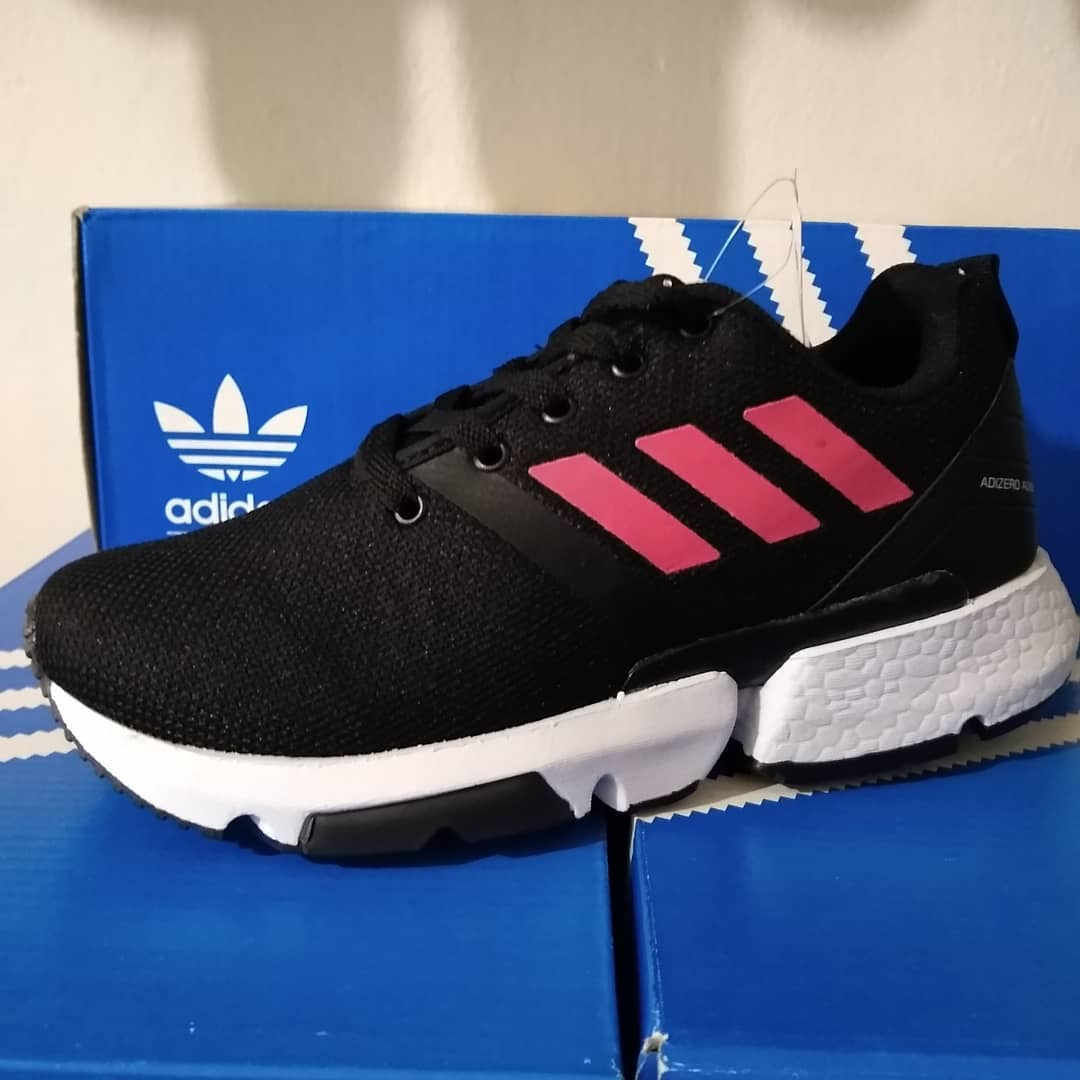adidas_2: (94, 352, 339, 559)
